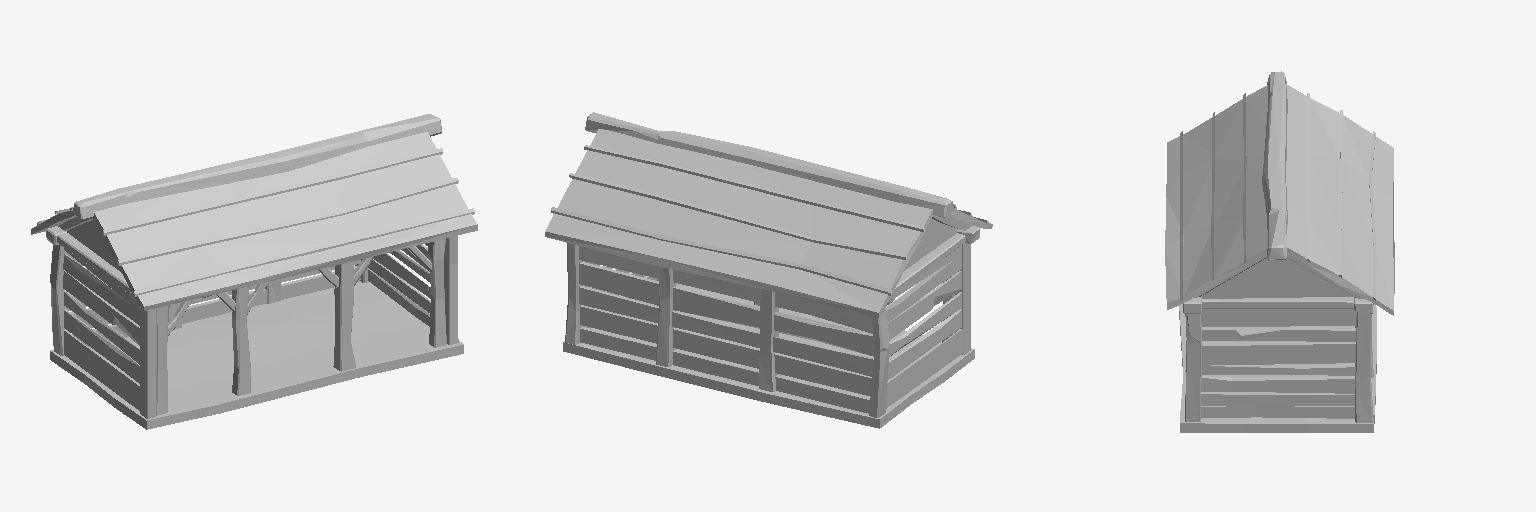
The model's file is Stable.obj.
3 renders of one model, left to right at view 1: azimuth 30°, elevation 25°; view 2: azimuth 150°, elevation 25°; view 3: azimuth 270°, elevation 25°, orthographic.
Parts seen in each view (by area): view 1: Stable; view 2: Stable; view 3: Stable.
Part boxes in pixels (x1,y1,x2,y2): Stable: (31,114,477,429); Stable: (545,112,992,428); Stable: (1165,71,1394,432).
Size of the model in its own units: 9.52 by 5.02 by 5.25.